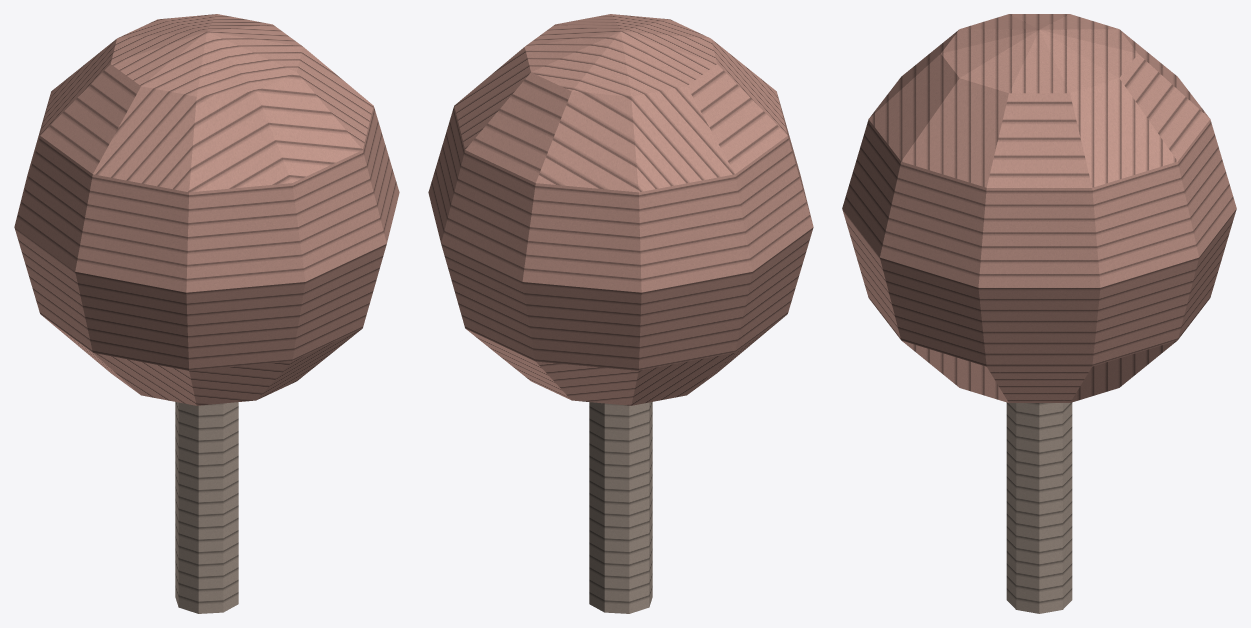
File: tree_osage_orange_relic.glb
3 views of the same model, side by side, from view 1: azimuth 30°, elevation 25°; view 2: azimuth 150°, elevation 25°; view 3: azimuth 270°, elevation 25° (orthographic).
Visible parts, largest first — view 1: tree_osage_orange_relic-col; view 2: tree_osage_orange_relic-col; view 3: tree_osage_orange_relic-col.
Boxes of the visible parts, box(x1,y1,x2,y2) form: tree_osage_orange_relic-col: box(14, 14, 399, 613); tree_osage_orange_relic-col: box(428, 14, 813, 613); tree_osage_orange_relic-col: box(842, 14, 1236, 613).
Bounding box in the file's own units: 3.42 × 5.74 × 3.6.
2 materials, 2 textured.
